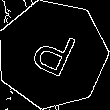P_SW: (25, 24, 80, 85)
